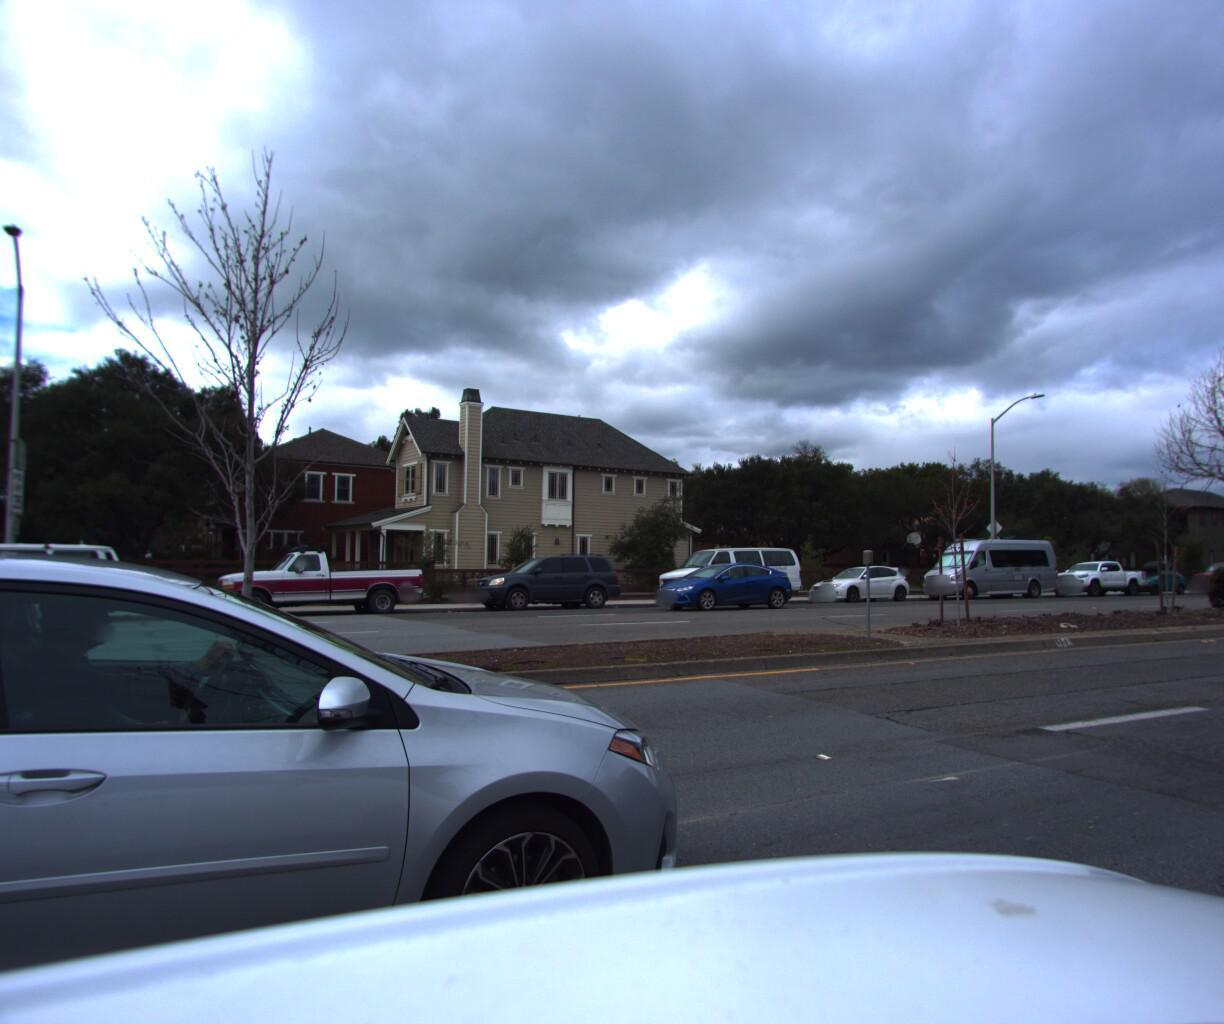car: (0, 465, 754, 1024), (212, 534, 428, 619), (0, 535, 138, 627), (907, 527, 1062, 598), (460, 545, 625, 611), (645, 540, 806, 603), (640, 553, 796, 606), (0, 548, 72, 635), (794, 556, 913, 601), (1041, 553, 1145, 592), (1109, 554, 1189, 593), (1182, 553, 1224, 590)
